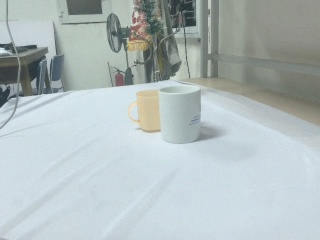cup: (158, 81, 204, 145), (127, 90, 161, 133)
